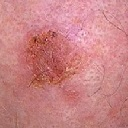Squamous Carcinoma: (25, 29, 78, 89)
